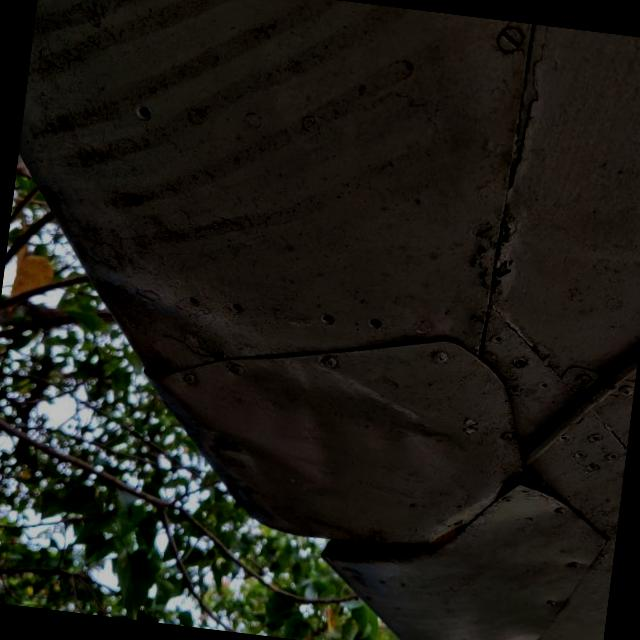dent: (60, 257, 485, 522)
